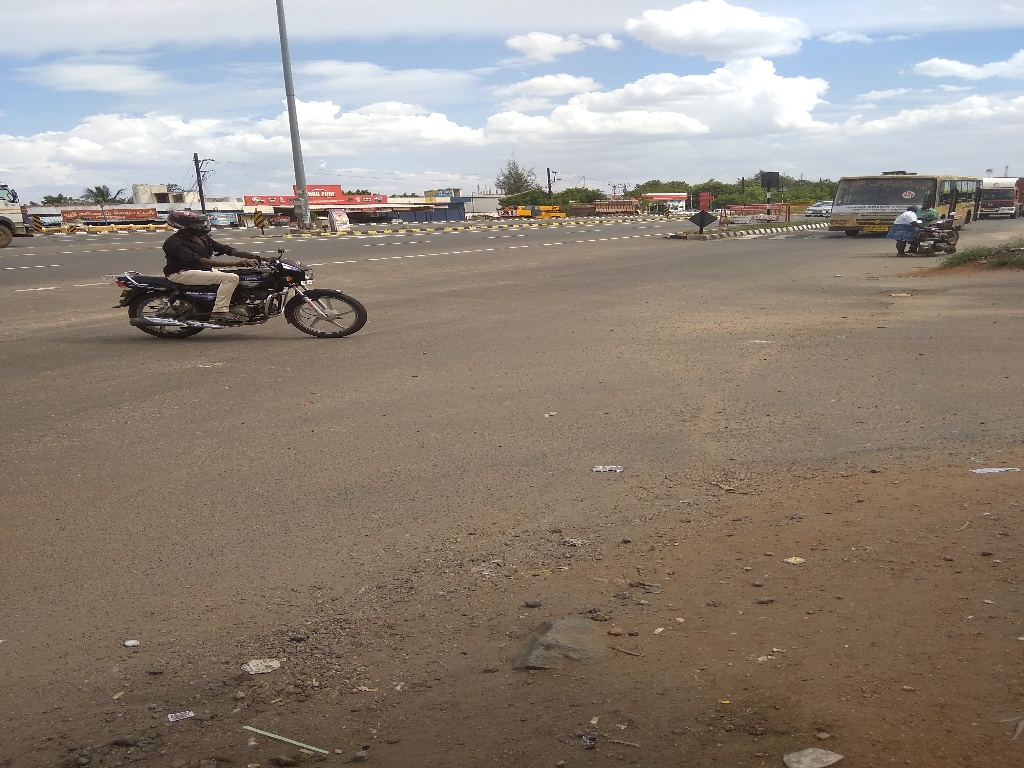biker: (100, 165, 387, 354)
helmet: (161, 198, 218, 243)
